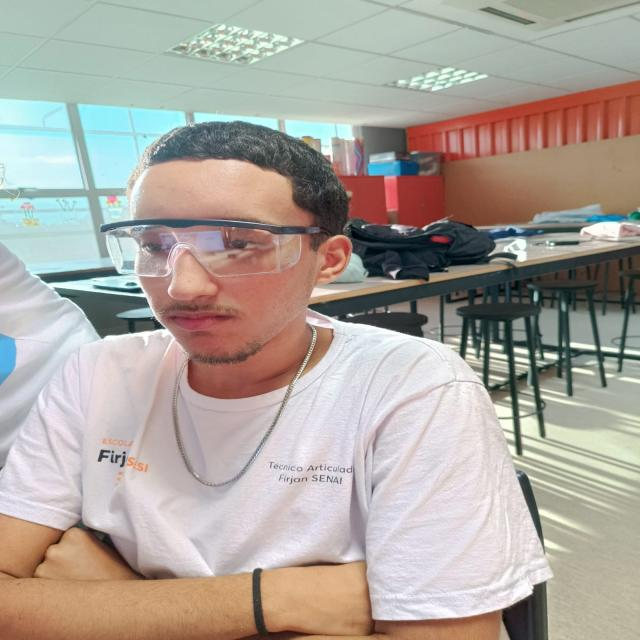oculos-epi: (101, 218, 321, 280)
